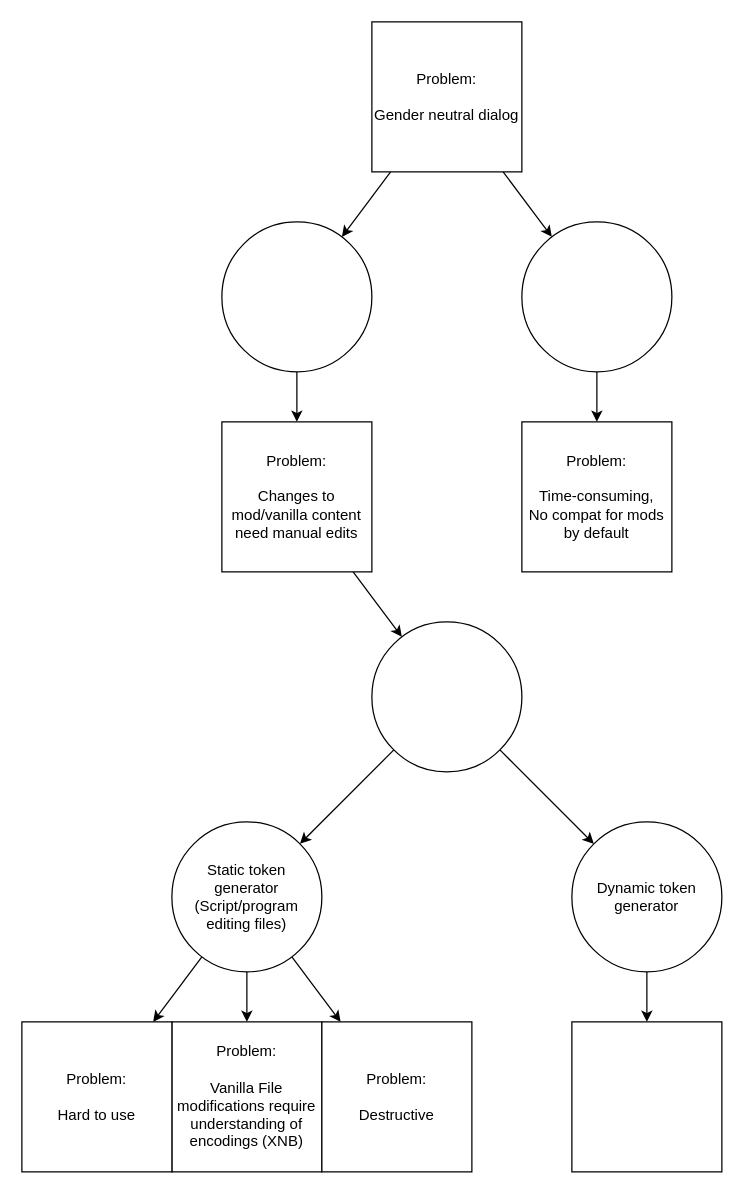
Image size: 744x1194. Some labels were removed from this diagram. Here are the shapes that lost their labels. From the top down, the centre of each, then its label:
At point 296,296: "Gender Neutrality Mod".
At point 596,296: "DIY".
At point 446,696: "Token generator".
At point 646,1096: "Problem: Detection of gendered dialog".
